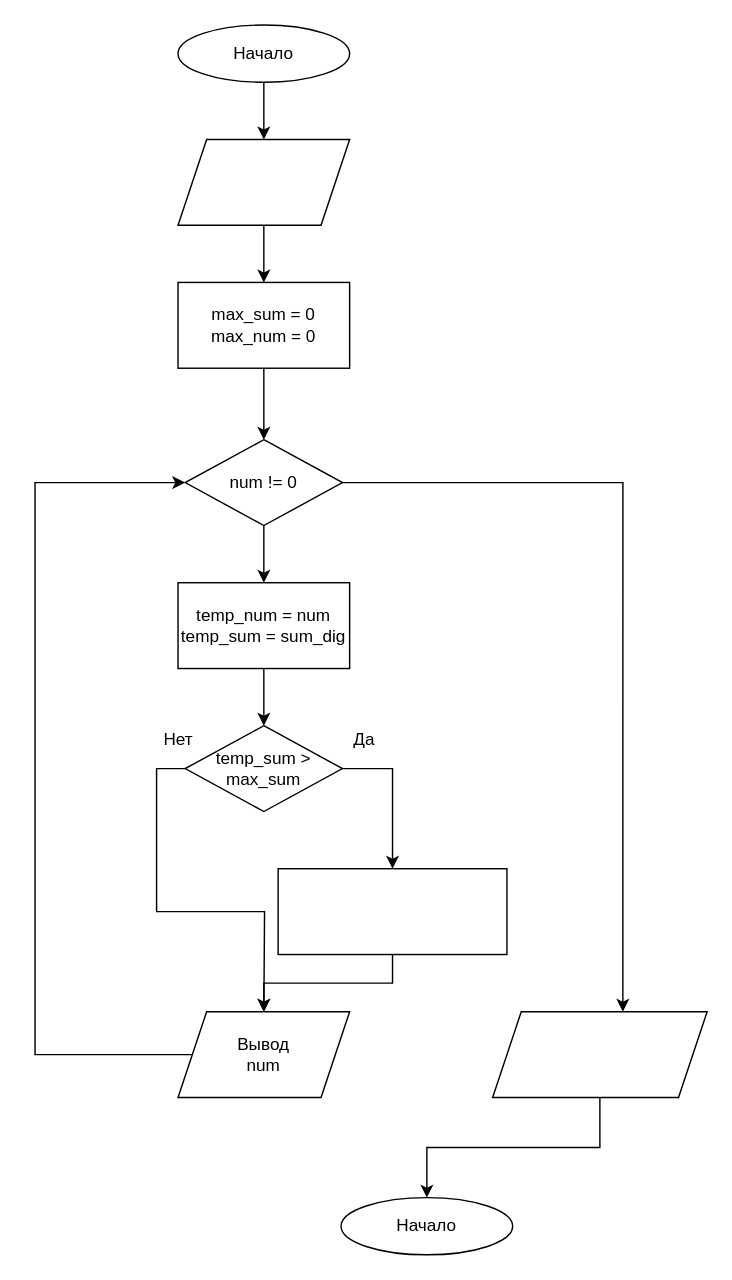
This 732x1280 diagram has some shape labels left out. Here are the shapes that lost their labels. From the top down, the centre of each, then its label:
(263,181): Ввод num
(392,911): max_sum = temp_sum max_num = temp_num
(599,1054): Вывод max_num, max_sum
